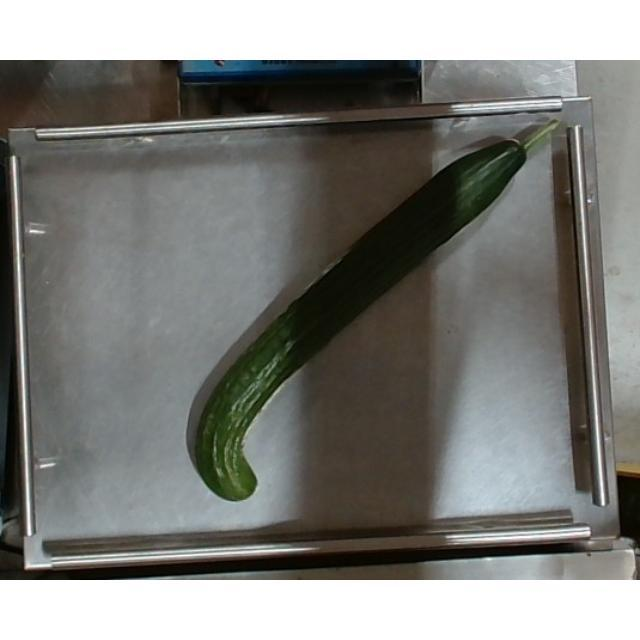cucumber: (194, 119, 558, 503)
